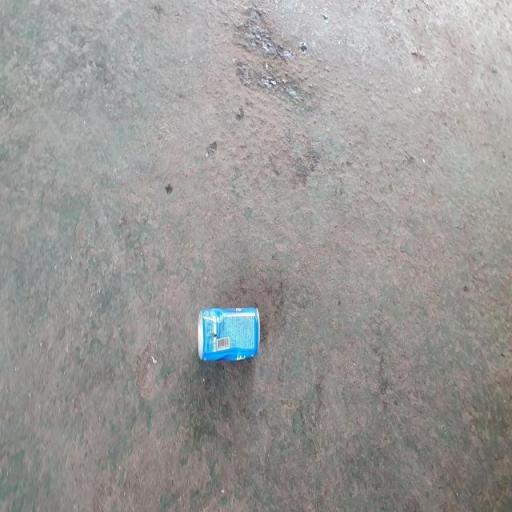metal: (169, 280, 282, 386)
